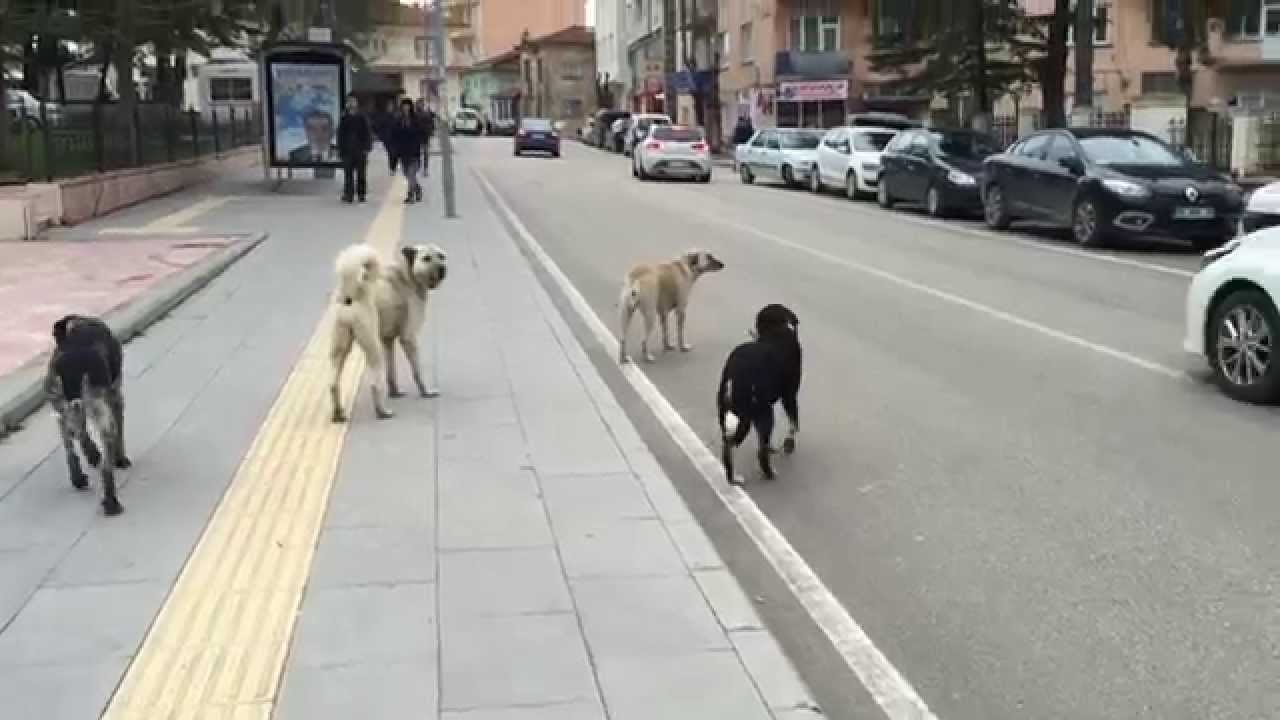kopek: (282, 226, 473, 435), (31, 309, 169, 516), (716, 303, 830, 469), (607, 238, 721, 364)
